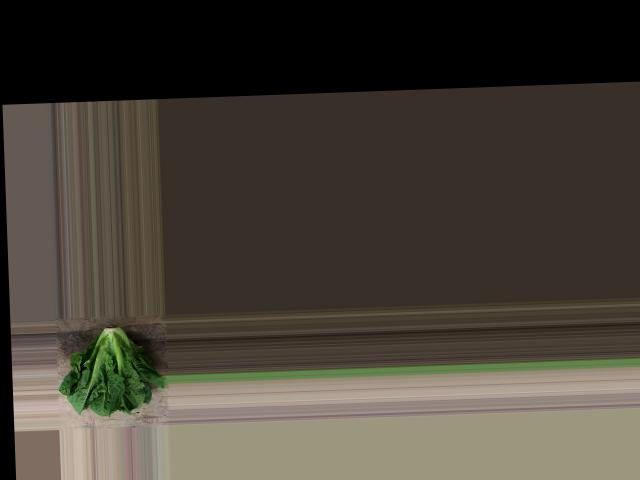lettuce: (59, 318, 166, 420)
